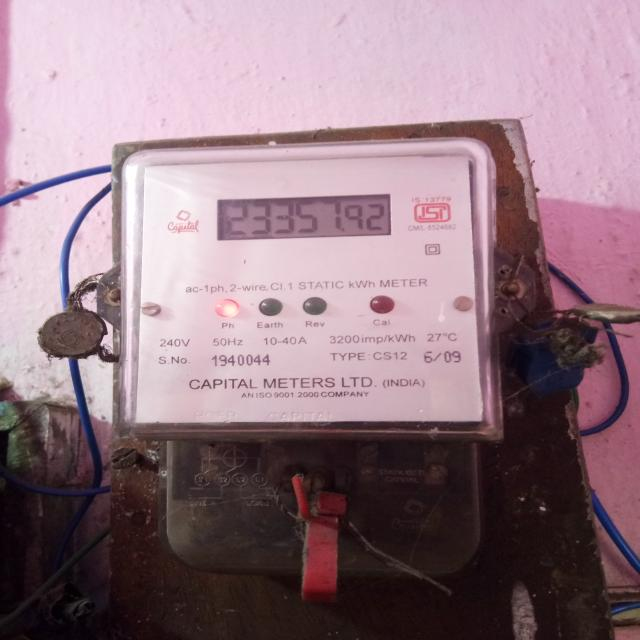display: (198, 188, 400, 242)
